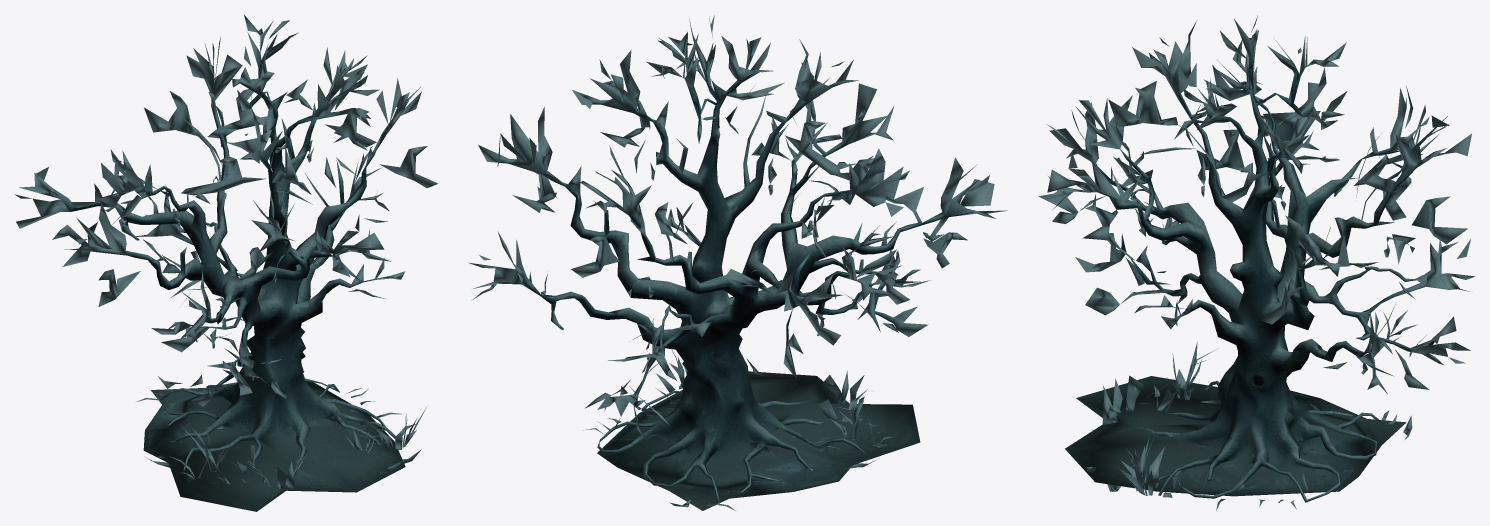
The model's file is tripo_convert_0a34e8da-83b6-4910-8810-e17e9aff4d9f.fbx.
3 renders of one model, left to right at view 1: azimuth 30°, elevation 25°; view 2: azimuth 150°, elevation 25°; view 3: azimuth 270°, elevation 25°, orthographic. The views are drawn at different scales.
Parts seen in each view (by area): view 1: tripo_node_0a34e8da; view 2: tripo_node_0a34e8da; view 3: tripo_node_0a34e8da.
Boxes of the visible parts, x1,y1,x2,y2 form: tripo_node_0a34e8da: [15, 14, 438, 511]; tripo_node_0a34e8da: [468, 15, 1007, 510]; tripo_node_0a34e8da: [1038, 15, 1475, 511].
Bounding box in the file's own units: 0.998 × 0.998 × 0.9277.
Materials: 1 (1 with a texture image).
